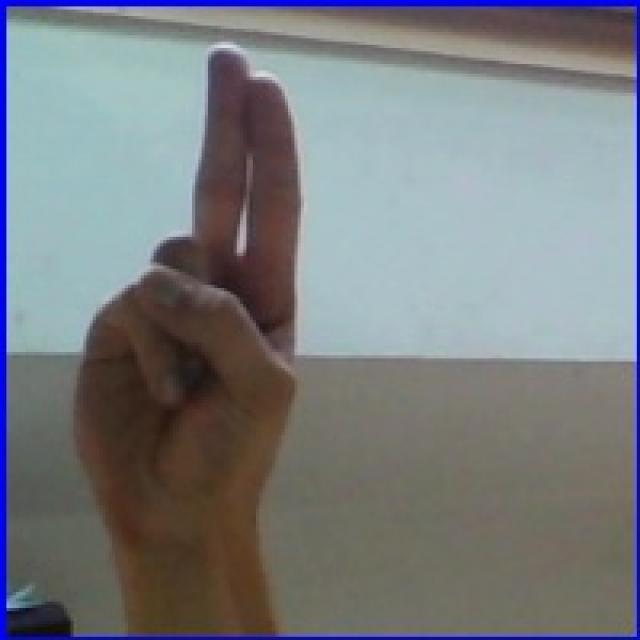Letra-U: (44, 29, 354, 554)
